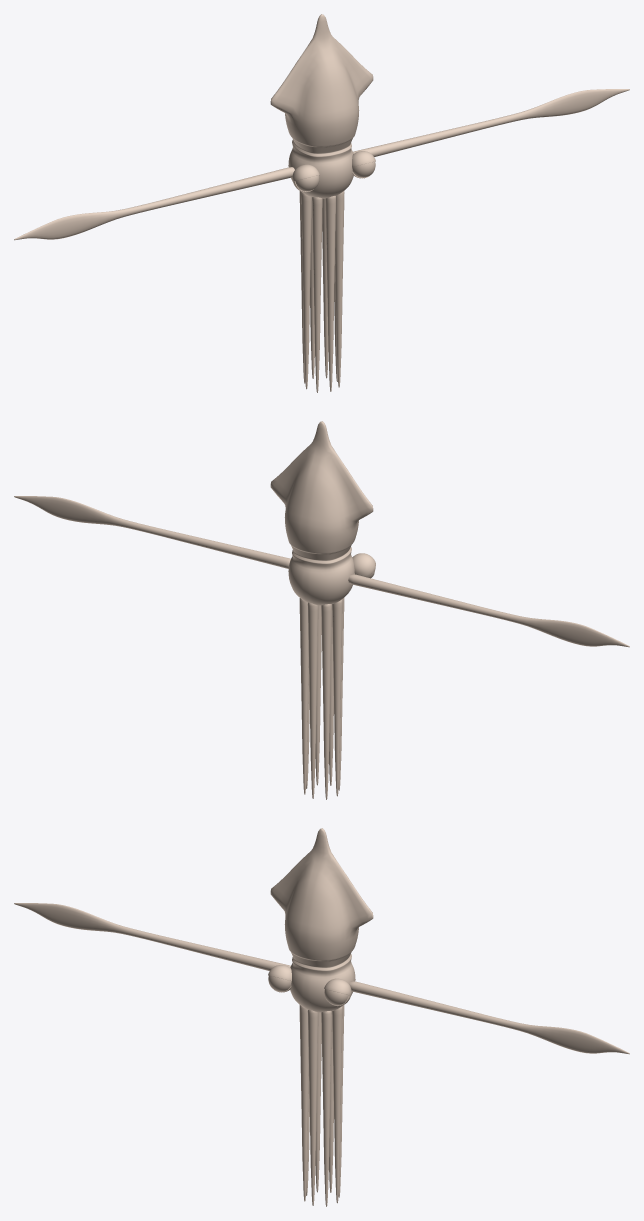
File: SquidMeshHiMB_SP.fbx
3 renders of one model, top to bottom at view 1: azimuth 30°, elevation 25°; view 2: azimuth 150°, elevation 25°; view 3: azimuth 330°, elevation 25°, orthographic.
Visible parts, largest first — view 1: SquidMeshHiMB; view 2: SquidMeshHiMB; view 3: SquidMeshHiMB.
Boxes of the visible parts, box(x1,y1,x2,y2) form: SquidMeshHiMB: box(14, 14, 629, 392); SquidMeshHiMB: box(14, 421, 629, 799); SquidMeshHiMB: box(14, 828, 629, 1206).
Size of the model in its own units: 50.08 by 28.84 by 5.25.
